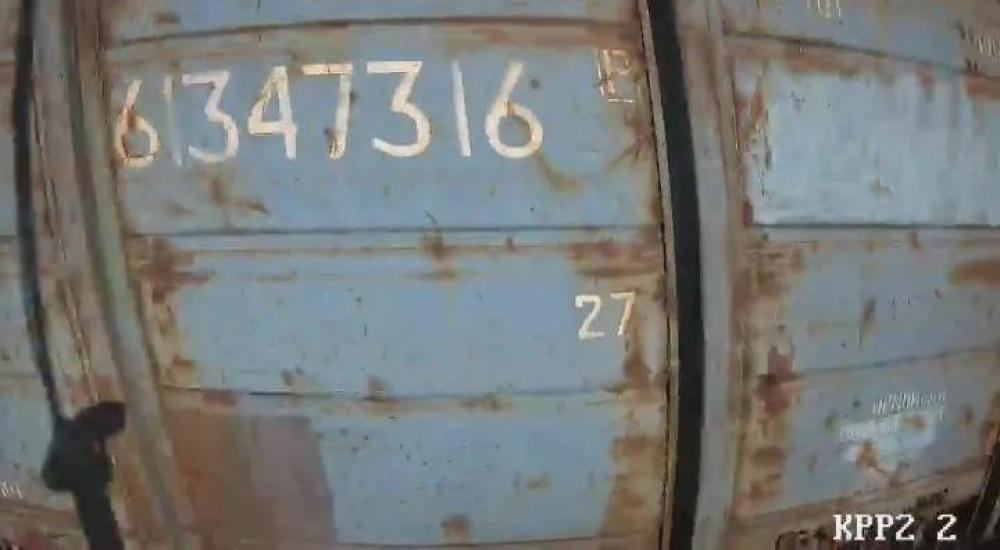Wagon-number: (103, 60, 554, 168)
